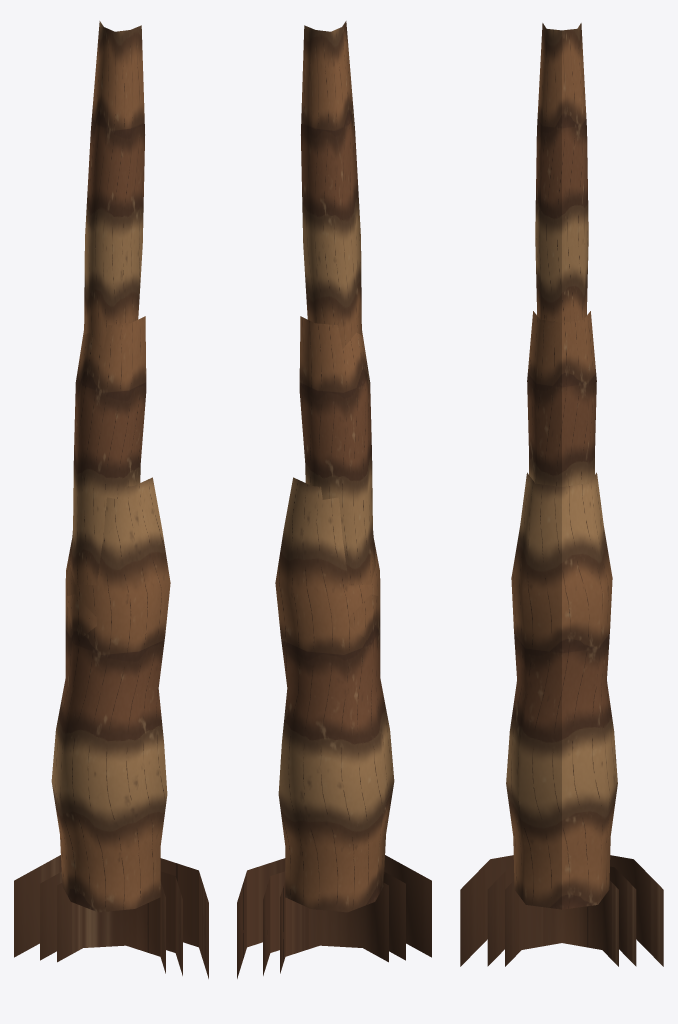
The model's file is ruins.glb.
3 renders of one model, left to right at view 1: azimuth 30°, elevation 25°; view 2: azimuth 150°, elevation 25°; view 3: azimuth 270°, elevation 25°, orthographic.
Visible parts, largest first — view 1: Pillar2, Pillar1, Pillar0; view 2: Pillar2, Pillar1, Pillar0; view 3: Pillar2, Pillar1, Pillar0.
Part boxes in pixels (box(x1,y1,x2,y2)): Pillar2: box(14, 477, 208, 978); Pillar1: box(57, 21, 165, 973); Pillar0: box(40, 316, 182, 975); Pillar2: box(237, 477, 431, 978); Pillar1: box(280, 21, 388, 973); Pillar0: box(263, 316, 405, 975); Pillar2: box(460, 472, 663, 966); Pillar1: box(505, 23, 618, 966); Pillar0: box(487, 311, 636, 966).
Bounding box in the file's own units: 2.85 × 14.7 × 2.85.
Materials: 1 (1 with a texture image).
